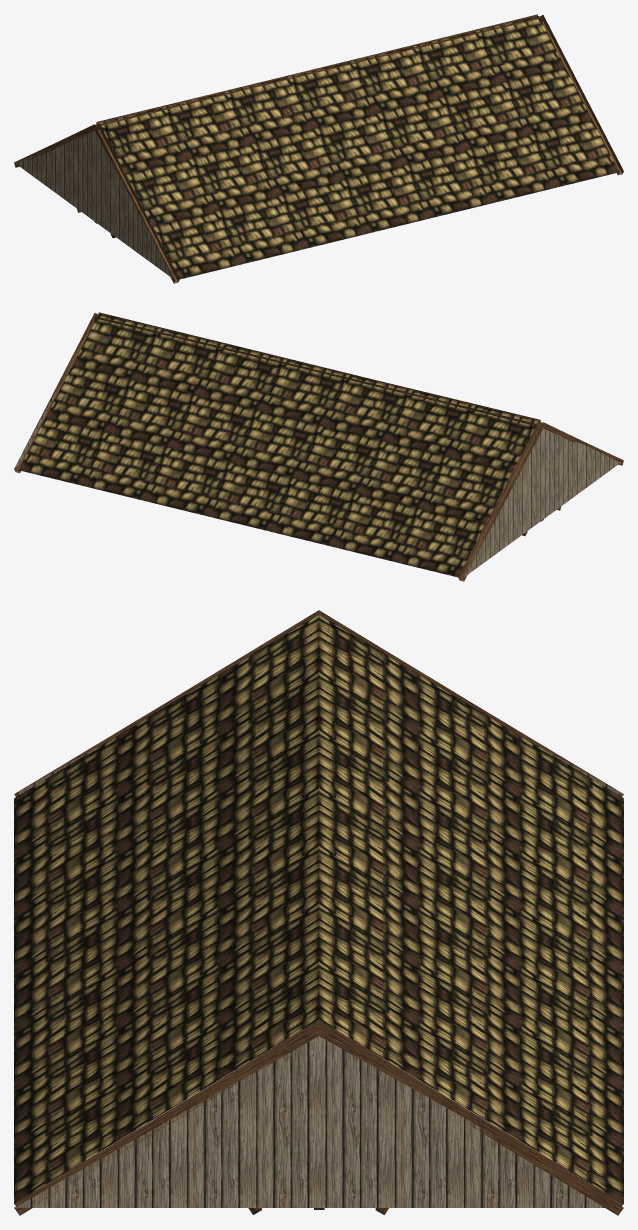
Rendered from LAKETOWN_WAREHOUSE2_PS_WH2_PLAT_ROOF847__GX.fbx.
The picture shows the model from 3 angles, top to bottom: view 1: azimuth 30°, elevation 25°; view 2: azimuth 150°, elevation 25°; view 3: azimuth 270°, elevation 25°; orthographic projection. The views are drawn at different scales.
Visible parts, largest first — view 1: LAKETOWN_WAREHOUSE2_PS_WH2_PLAT_ROOF847__GX; view 2: LAKETOWN_WAREHOUSE2_PS_WH2_PLAT_ROOF847__GX; view 3: LAKETOWN_WAREHOUSE2_PS_WH2_PLAT_ROOF847__GX.
Boxes of the visible parts, box(x1,y1,x2,y2) form: LAKETOWN_WAREHOUSE2_PS_WH2_PLAT_ROOF847__GX: box(14, 14, 623, 283); LAKETOWN_WAREHOUSE2_PS_WH2_PLAT_ROOF847__GX: box(14, 312, 623, 581); LAKETOWN_WAREHOUSE2_PS_WH2_PLAT_ROOF847__GX: box(14, 610, 623, 1215).
Bounding box in the file's own units: 361440 × 78346 × 225235.
Materials: 5 (5 with a texture image).
